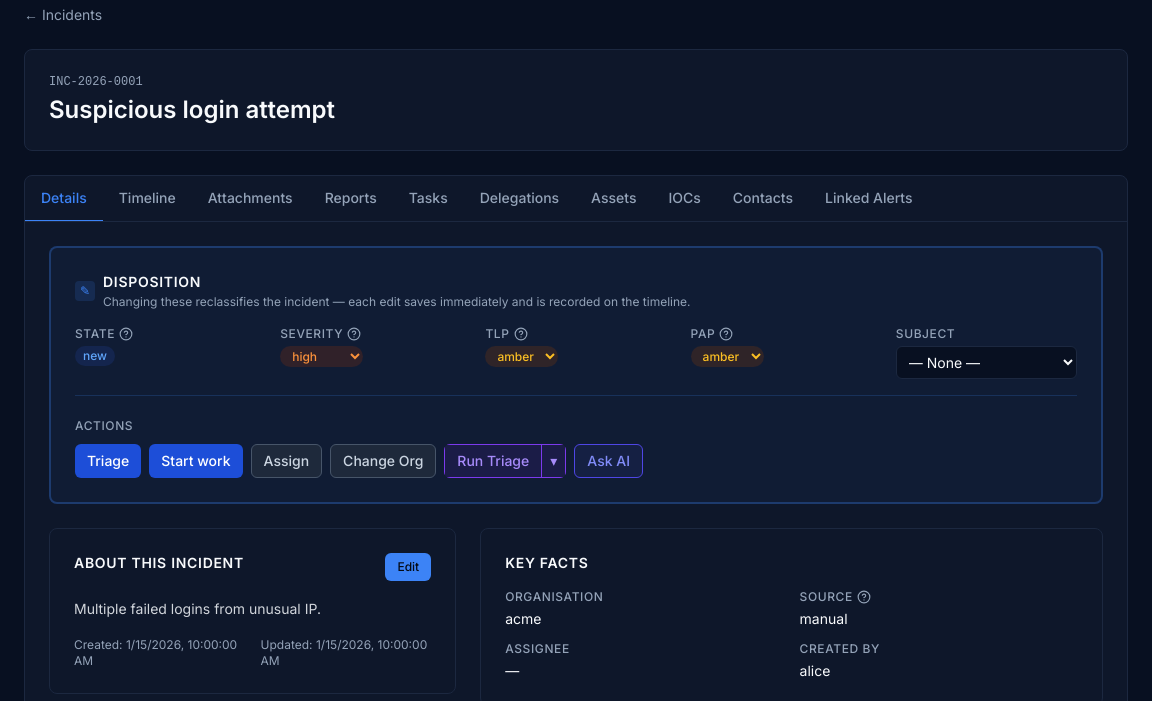
IncidentDetail › cancelling the description editor restores the original text (#647)
The image size is (1152, 701).
Expected: the text "Multiple failed logins from unusual IP." is shown, [74,600,321,617]
Click the button "Edit". click: (408, 567)
box: [385,553,431,581]
(page scrolled)
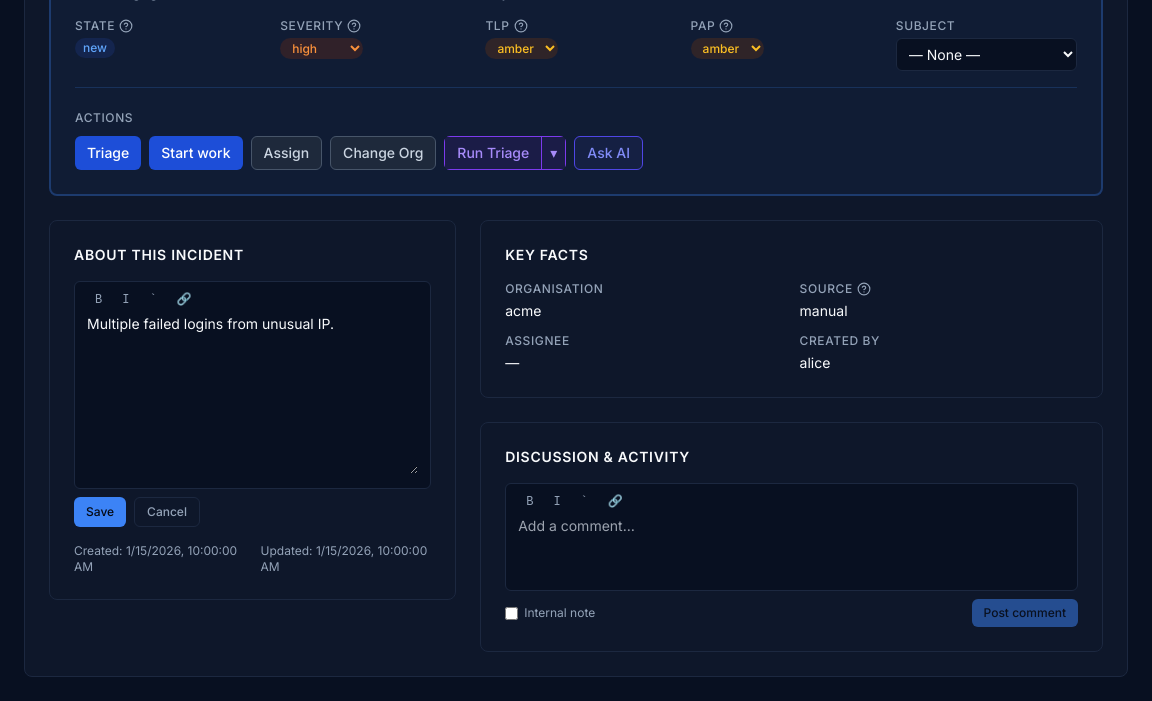
Replace the text in the text box named "Incident description" with "Some unsaved edit.". click: (253, 394)
box: [87,314,418,474]
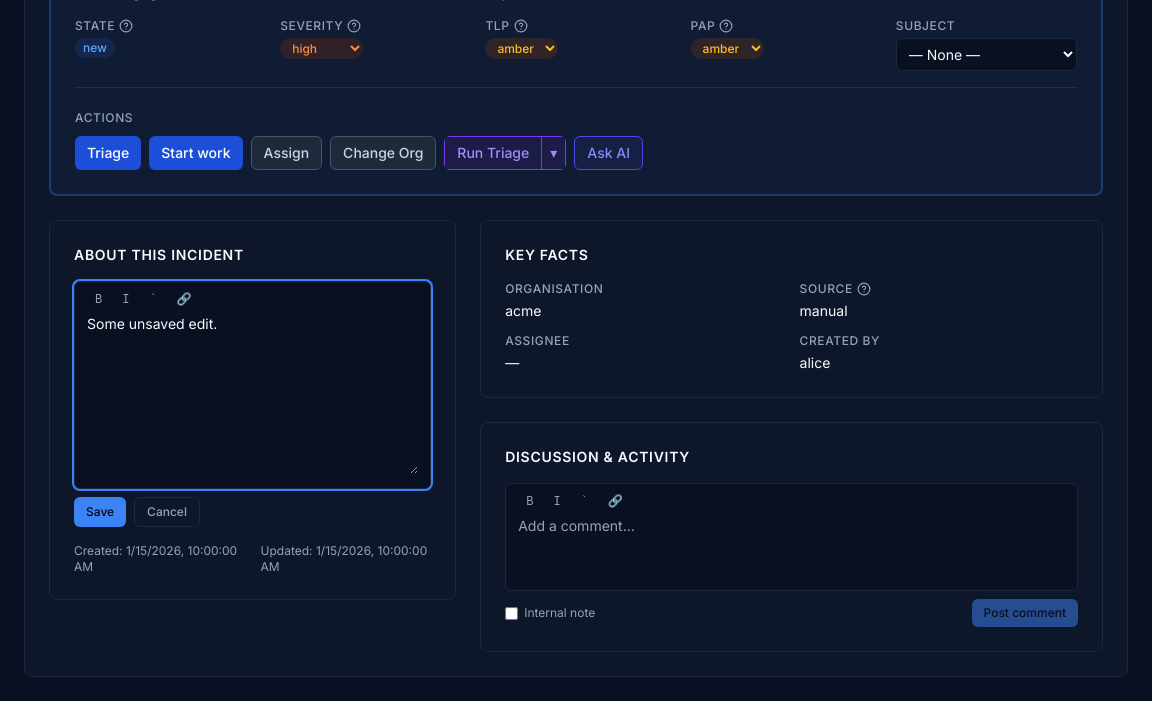
Click the button "Cancel". click: (167, 512)
box: [134,497,200,527]
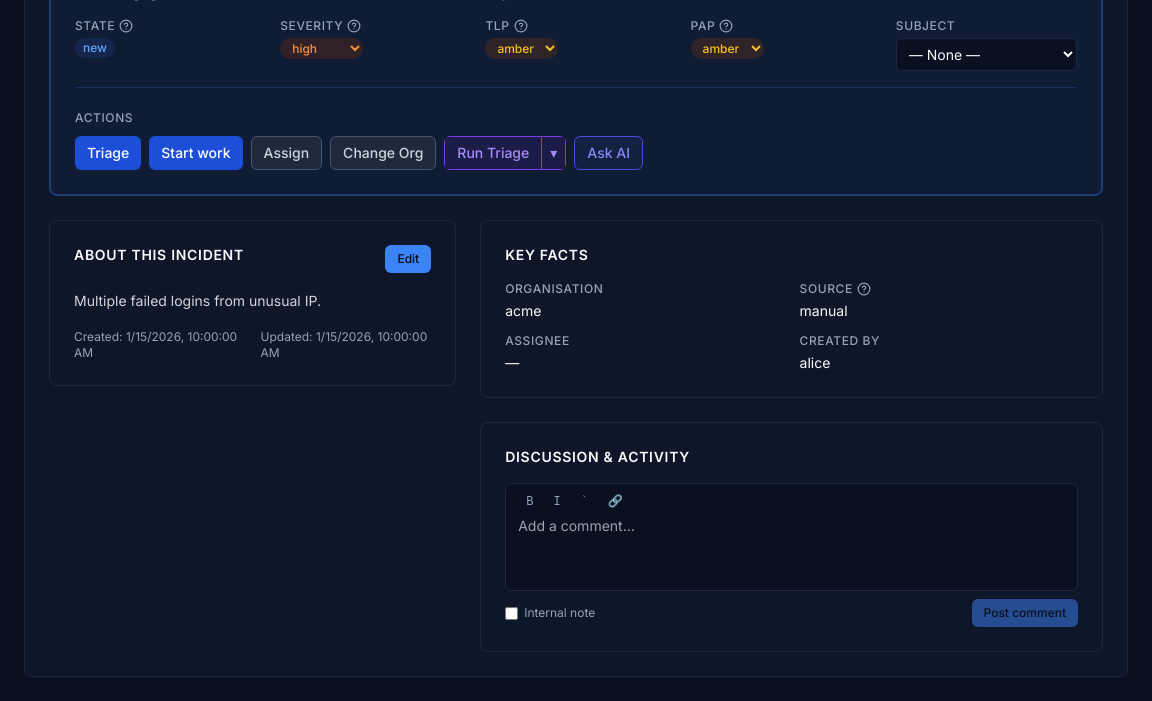
Result: the text "Multiple failed logins from unusual IP." is shown at [74,292,321,309]
